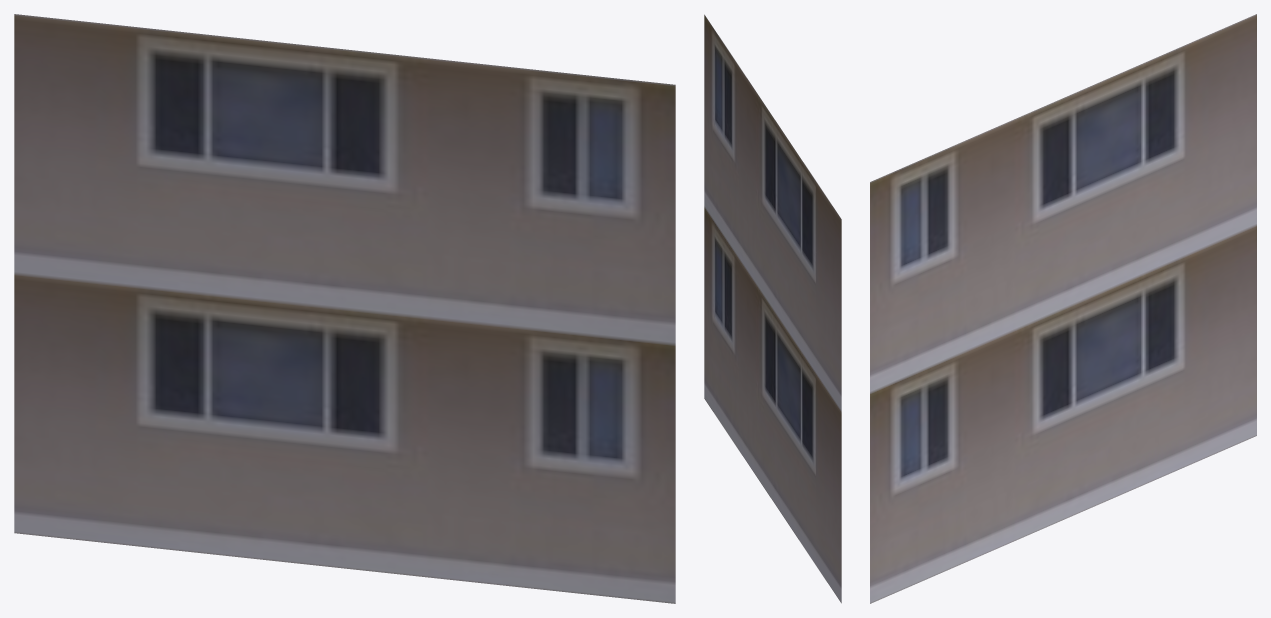
Rendered from ResTex__1975.fbx.
3 views of the same model, side by side, from view 1: azimuth 30°, elevation 25°; view 2: azimuth 150°, elevation 25°; view 3: azimuth 270°, elevation 25° (orthographic). The views are drawn at different scales.
Visible parts, largest first — view 1: CityEngineMaterial_21_m; view 2: CityEngineMaterial_21_m; view 3: CityEngineMaterial_21_m.
Part boxes in pixels (left/top/right/bottom): CityEngineMaterial_21_m: left=14, top=14, right=675, bottom=603; CityEngineMaterial_21_m: left=704, top=14, right=841, bottom=603; CityEngineMaterial_21_m: left=870, top=14, right=1256, bottom=603.
Size of the model in its own units: 5.12 by 6 by 4.98.
1 material, 1 textured.
